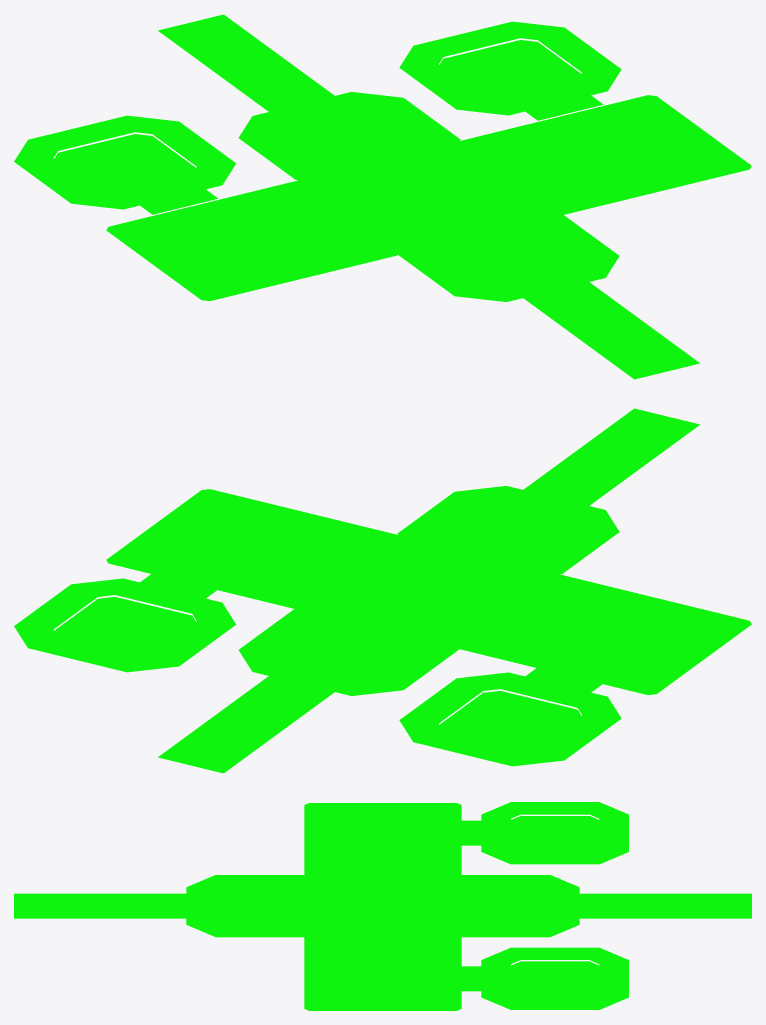
Rendered from s06b_ic3-floor.glb.
3 views of the same model, one above another, from view 1: azimuth 30°, elevation 25°; view 2: azimuth 150°, elevation 25°; view 3: azimuth 270°, elevation 25° (orthographic). The views are drawn at different scales.
Parts seen in each view (by area): view 1: collision_floor-colonly; view 2: collision_floor-colonly; view 3: collision_floor-colonly.
Boxes of the visible parts, left/top/right/bottom form: collision_floor-colonly: left=14, top=14, right=751, bottom=379; collision_floor-colonly: left=14, top=408, right=751, bottom=773; collision_floor-colonly: left=14, top=802, right=751, bottom=1010.
Bounding box in the file's own units: 50 × 0.1504 × 75.
